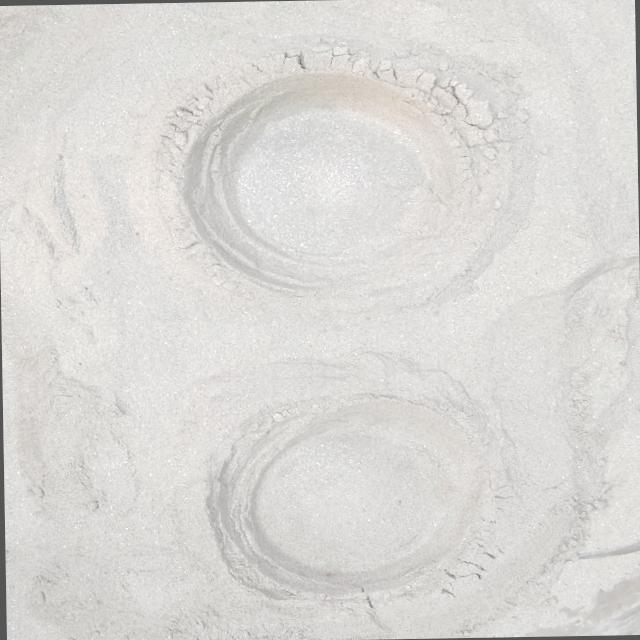C20: (184, 73, 507, 293), (212, 366, 494, 600)
